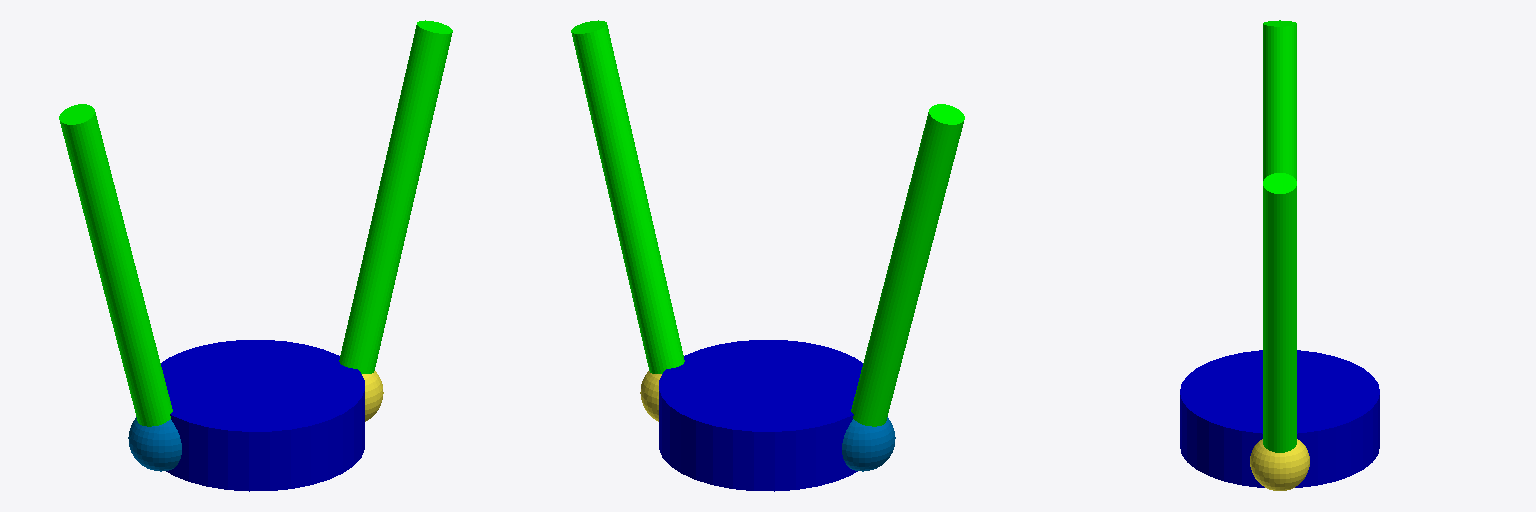
The robot description file, URDF, robot "gripper_2f_1j":
<?xml version='1.0' encoding='UTF-8'?>
<robot name="gripper_2f_1j">
  <link name="palm">
    <inertial>
      <origin xyz="0.0 0.0 0.0" rpy="0.0 -0.0 0.0"/>
      <mass value="1.0"/>
      <inertia ixx="1.0" ixy="0.0" ixz="0.0" iyy="1.0" iyz="0.0" izz="1.0"/>
    </inertial>
    <visual>
      <geometry>
        <cylinder radius="0.05" length="0.03"/>
      </geometry>
      <material name="blue"/>
      <origin xyz="0.0 0.0 0.0" rpy="0.0 -0.0 0.0"/>
    </visual>
    <collision>
      <geometry>
        <cylinder radius="0.05" length="0.03"/>
      </geometry>
      <origin xyz="0.0 0.0 0.0" rpy="0.0 0.0 0.0"/>
    </collision>
  </link>
  <link name="f11">
    <inertial>
      <origin xyz="0.0 0.0 0.0" rpy="0.0 -0.0 0.0"/>
      <mass value="1.0"/>
      <inertia ixx="1.0" ixy="0.0" ixz="0.0" iyy="1.0" iyz="0.0" izz="1.0"/>
    </inertial>
    <visual>
      <geometry>
        <cylinder radius="0.008411380641517125" length="0.17927996418646072"/>
      </geometry>
      <material name="green"/>
      <origin xyz="0.0 0.0 0.08963998209323036" rpy="0.0 -0.0 0.0"/>
    </visual>
    <collision>
      <geometry>
        <cylinder radius="0.008411380641517125" length="0.17927996418646072"/>
      </geometry>
      <origin xyz="0.0 0.0 0.05" rpy="0.0 0.0 0.0"/>
    </collision>
  </link>
  <link name="f21">
    <inertial>
      <origin xyz="0.0 0.0 0.0" rpy="0.0 -0.0 0.0"/>
      <mass value="1.0"/>
      <inertia ixx="1.0" ixy="0.0" ixz="0.0" iyy="1.0" iyz="0.0" izz="1.0"/>
    </inertial>
    <visual>
      <geometry>
        <cylinder radius="0.008411380641517125" length="0.17927996418646072"/>
      </geometry>
      <material name="green"/>
      <origin xyz="0.0 0.0 0.08963998209323036" rpy="0.0 -0.0 0.0"/>
    </visual>
    <collision>
      <geometry>
        <cylinder radius="0.008411380641517125" length="0.17927996418646072"/>
      </geometry>
      <origin xyz="0.0 0.0 0.05" rpy="0.0 0.0 0.0"/>
    </collision>
  </link>
  <link name="f11_base">
    <inertial>
      <origin xyz="0.0 0.0 0.0" rpy="0.0 -0.0 0.0"/>
      <mass value="1.0"/>
      <inertia ixx="1.0" ixy="0.0" ixz="0.0" iyy="1.0" iyz="0.0" izz="1.0"/>
    </inertial>
    <visual>
      <geometry>
        <sphere radius="0.015"/>
      </geometry>
      <origin xyz="0.0 0.0 0.0" rpy="0.0 -0.0 0.0"/>
    </visual>
  </link>
  <link name="f21_base">
    <inertial>
      <origin xyz="0.0 0.0 0.0" rpy="0.0 -0.0 0.0"/>
      <mass value="1.0"/>
      <inertia ixx="1.0" ixy="0.0" ixz="0.0" iyy="1.0" iyz="0.0" izz="1.0"/>
    </inertial>
    <visual>
      <geometry>
        <sphere radius="0.015"/>
      </geometry>
      <origin xyz="0.0 0.0 0.0" rpy="0.0 -0.0 0.0"/>
    </visual>
  </link>
  <joint name="f11_joint" type="revolute">
    <dynamics damping="100.0" friction="1.0"/>
    <limit effort="30.0" velocity="2.0" lower="-0.6" upper="0.25"/>
    <parent link="f11_base"/>
    <child link="f11"/>
    <axis xyz="0. 1. 0."/>
    <origin xyz="0.0 0.0 0.0" rpy="0.0 0.25 0.0"/>
  </joint>
  <joint name="f21_joint" type="revolute">
    <dynamics damping="100.0" friction="1.0"/>
    <limit effort="30.0" velocity="2.0" lower="-0.6" upper="0.25"/>
    <parent link="f21_base"/>
    <child link="f21"/>
    <axis xyz=" 0. -1.  0."/>
    <origin xyz="0.0 0.0 0.0" rpy="0.0 -0.25 0.0"/>
  </joint>
  <joint name="f11_base_joint" type="fixed">
    <parent link="palm"/>
    <child link="f11_base"/>
    <axis xyz="1. 0. 0."/>
    <origin xyz="0.05 0.0 0.0" rpy="0.0 0.0 0.0"/>
  </joint>
  <joint name="f21_base_joint" type="fixed">
    <parent link="palm"/>
    <child link="f21_base"/>
    <axis xyz="1. 0. 0."/>
    <origin xyz="-0.05 -0.0 0.0" rpy="0.0 0.0 0.0"/>
  </joint>
  <material name="blue">
    <color rgba="0.  0.  0.8 1. "/>
  </material>
  <material name="green">
    <color rgba="0. 1. 0. 1."/>
  </material>
</robot>

--- What the picture shows (computed from the rendered views, not written in the file) ---
3 views of the same robot in one strip: view 1: azimuth 30°, elevation 25°; view 2: azimuth 150°, elevation 25°; view 3: azimuth 270°, elevation 25° (orthographic).
Model gripper_2f_1j with 5 links and 4 joints (2 revolute, 2 fixed), rooted at palm, posed every joint at zero.
Links seen in each view (by area): view 1: palm, f11, f21, f21_base, f11_base; view 2: palm, f11, f21, f21_base, f11_base; view 3: palm, f11, f21, f11_base.
Link boxes in pixels (x1,y1,x2,y2): palm: (161,340,364,491); f11: (339,20,452,373); f21: (59,104,172,426); f21_base: (128,417,181,471); f11_base: (362,371,383,421); palm: (659,340,862,491); f11: (571,20,684,373); f21: (851,104,964,426); f21_base: (842,417,895,471); f11_base: (640,371,661,421); palm: (1180,350,1379,487); f11: (1263,173,1296,452); f21: (1263,20,1296,180); f11_base: (1250,439,1309,490).
Bounding box of the posed robot: 0.205 × 0.1 × 0.1908 m (x, y, z).
Geometry: primitives only (box / cylinder / sphere), no mesh files.